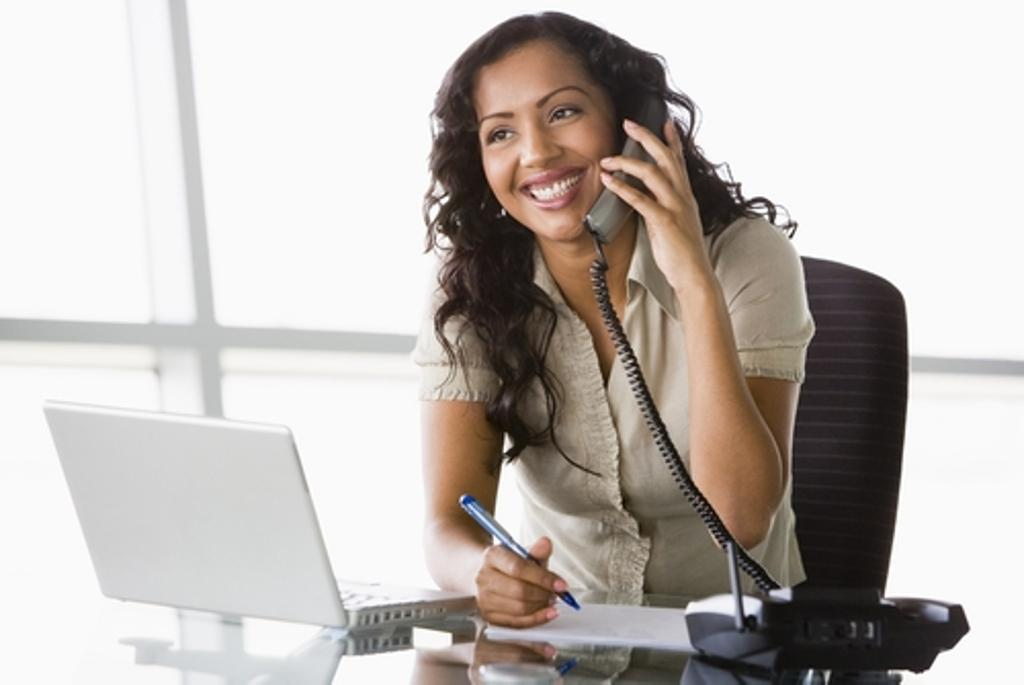face: (482, 38, 622, 232)
